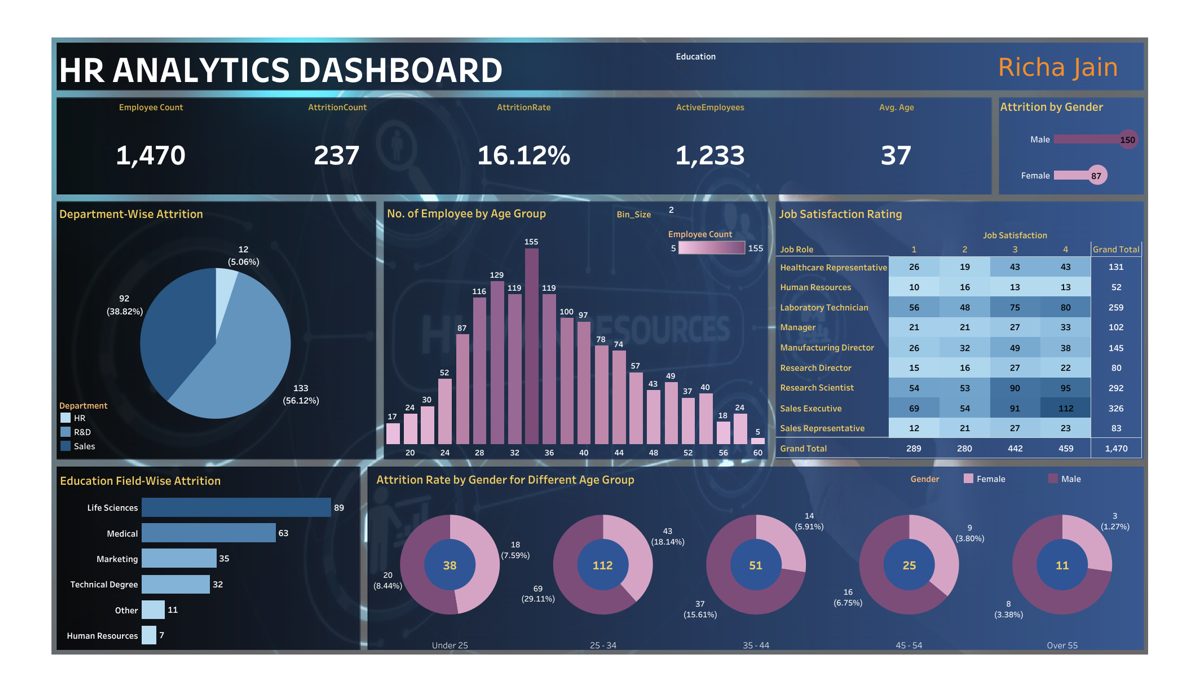

The page's visual inventory and layout, read from the dashboard file:
{"tool":"tableau","page":{"name":"HR Analytics Dashboard","canvas":[1580,900],"ordinal":0},"visuals":[{"type":"image","param":"Image/Slide1.PNG","box":[8,8,1564,884]},{"type":"text","box":[1352,24,210,59]},{"type":"text","box":[19,27,965,56]},{"type":"filter","title":"Department-Wise Attrition","param":"[federated.0667vg711isgyu1bsyu021k986g7].[none:Education:nk]","box":[898,28,160,55]},{"type":"worksheet","title":"Attrition by Gender","mark":"Automatic","rows":["Gender"],"cols":["Calculation_1033576145253617664","Calculation_1033576145253617664"],"box":[1354,92,205,140]},{"type":"worksheet","title":"KPI","mark":"Automatic","box":[21,100,1323,133]},{"type":"worksheet","title":"No. of Employee by Age Group","mark":"Automatic","rows":["Employee Count"],"cols":["Age (bin)"],"box":[484,243,543,366]},{"type":"worksheet","title":"Department-Wise Attrition","mark":"Pie","box":[19,244,451,365]},{"type":"worksheet","title":"Job Satisfaction Rating","mark":"Square","rows":["Job Role"],"cols":["Job Satisfaction"],"box":[1040,244,520,365]},{"type":"parameter","param":"[Parameters].[Parameter 1]","box":[814,247,214,29]},{"type":"legend","title":"No. of Employee by Age Group","param":"[federated.0667vg711isgyu1bsyu021k986g7].[sum:Employee Count:qk]","box":[887,277,140,59]},{"type":"legend","title":"Department-Wise Attrition","param":"[federated.0667vg711isgyu1bsyu021k986g7].[none:Department:nk]","box":[22,522,140,85]},{"type":"worksheet","title":"Attrition Rate by Gender for Different Age Group","mark":"Pie","rows":["Calculation_126100820620853249","Calculation_126100820620853249"],"cols":["CF_age band"],"box":[469,621,1086,261]},{"type":"worksheet","title":"Education Field-Wise Attrition","mark":"Automatic","rows":["Education Field"],"cols":["Calculation_1033576145253617664"],"box":[20,622,428,256]},{"type":"legend","title":"Attrition Rate by Gender for Different Age Group","param":"[federated.0667vg711isgyu1bsyu021k986g7].[none:Gender:nk]","box":[1231,627,330,37]}]}

Visuals, with their boxes in screenshot pixels (x1, y1, x2, y2), scaled from the page's 1580x900 canvas onto the 1204x692 screenshot:
image: {"x1": 6, "y1": 6, "x2": 1198, "y2": 686}
text: {"x1": 1030, "y1": 18, "x2": 1190, "y2": 64}
text: {"x1": 14, "y1": 21, "x2": 750, "y2": 64}
"Department-Wise Attrition" filter: {"x1": 684, "y1": 22, "x2": 806, "y2": 64}
"Attrition by Gender" worksheet: {"x1": 1032, "y1": 71, "x2": 1188, "y2": 178}
"KPI" worksheet: {"x1": 16, "y1": 77, "x2": 1024, "y2": 179}
"No. of Employee by Age Group" worksheet: {"x1": 369, "y1": 187, "x2": 783, "y2": 468}
"Department-Wise Attrition" worksheet (Pie marks): {"x1": 14, "y1": 188, "x2": 358, "y2": 468}
"Job Satisfaction Rating" worksheet (Square marks): {"x1": 793, "y1": 188, "x2": 1189, "y2": 468}
parameter: {"x1": 620, "y1": 190, "x2": 783, "y2": 212}
"No. of Employee by Age Group" legend: {"x1": 676, "y1": 213, "x2": 783, "y2": 258}
"Department-Wise Attrition" legend: {"x1": 17, "y1": 401, "x2": 123, "y2": 467}
"Attrition Rate by Gender for Different Age Group" worksheet (Pie marks): {"x1": 357, "y1": 477, "x2": 1185, "y2": 678}
"Education Field-Wise Attrition" worksheet: {"x1": 15, "y1": 478, "x2": 341, "y2": 675}
"Attrition Rate by Gender for Different Age Group" legend: {"x1": 938, "y1": 482, "x2": 1190, "y2": 511}
